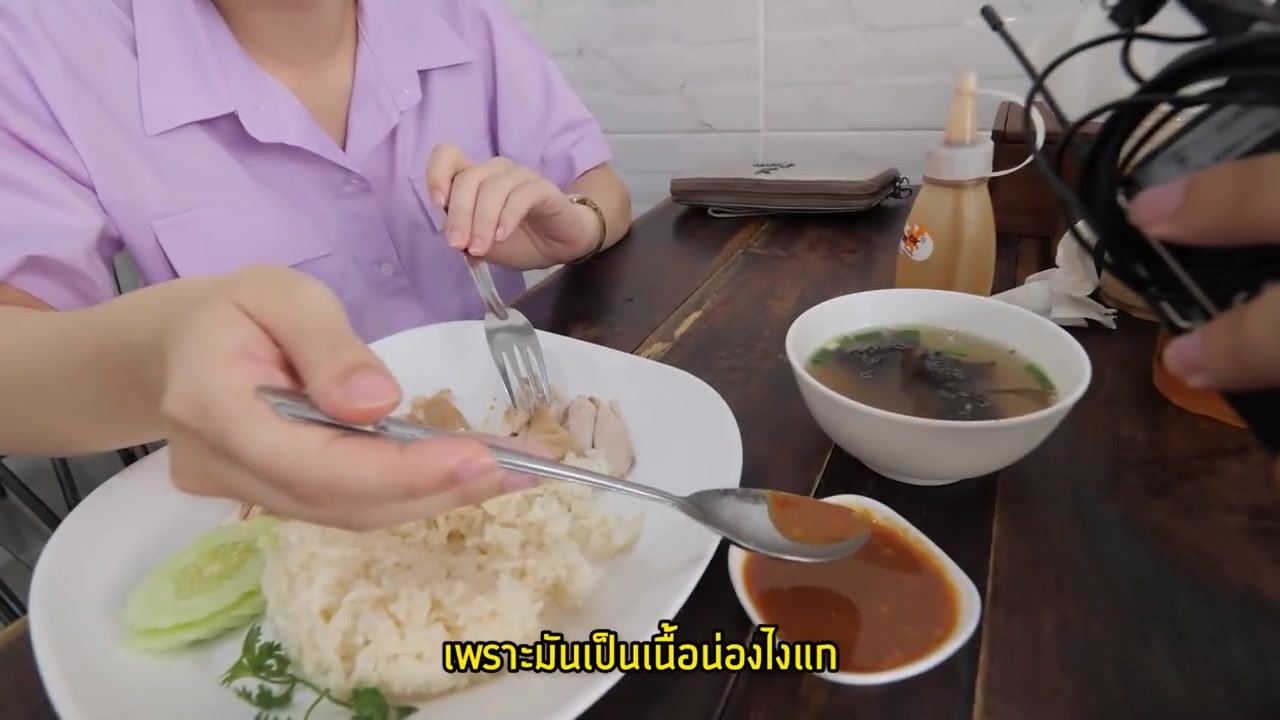text-label: (438, 618, 843, 678)
